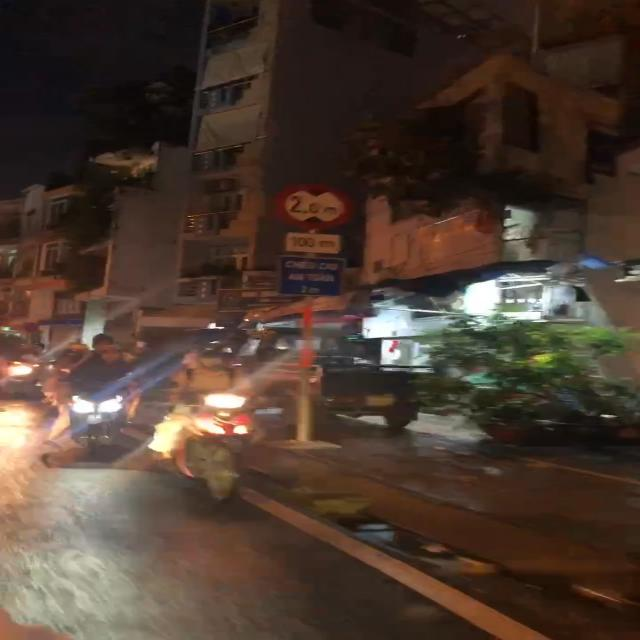Bien bao han che chieu cao: (271, 178, 352, 229)
